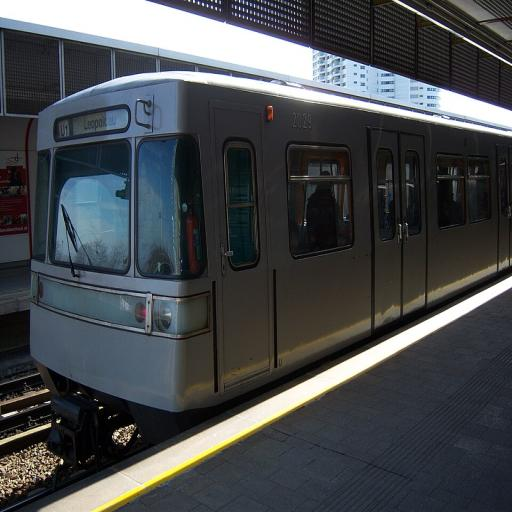Silberpfeil: (28, 71, 512, 421)
